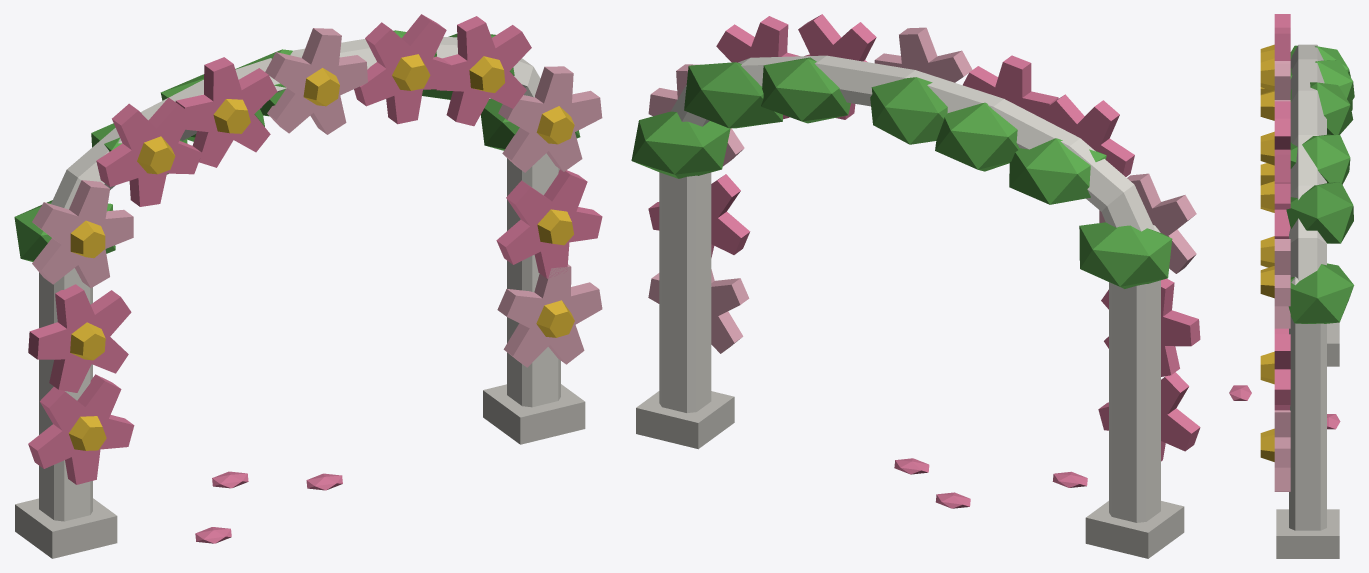
The model's file is habitat_prop_bloom.fbx.
The picture shows the model from 3 angles, left to right: view 1: azimuth 30°, elevation 25°; view 2: azimuth 150°, elevation 25°; view 3: azimuth 270°, elevation 25°; orthographic projection. The views are drawn at different scales.
Parts seen in each view (by area): view 1: habitat_prop_bloom; view 2: habitat_prop_bloom; view 3: habitat_prop_bloom.
Part boxes in pixels (<box>): habitat_prop_bloom: <box>14,14,602,558</box>; habitat_prop_bloom: <box>631,14,1200,558</box>; habitat_prop_bloom: <box>1229,14,1354,558</box>.
Bounding box in the file's own units: 1.74 × 1.35 × 0.397.
